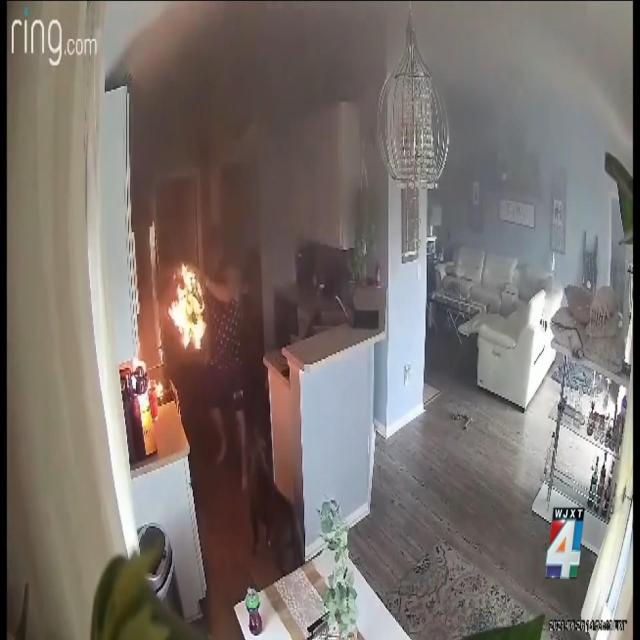fire: (168, 261, 207, 351)
